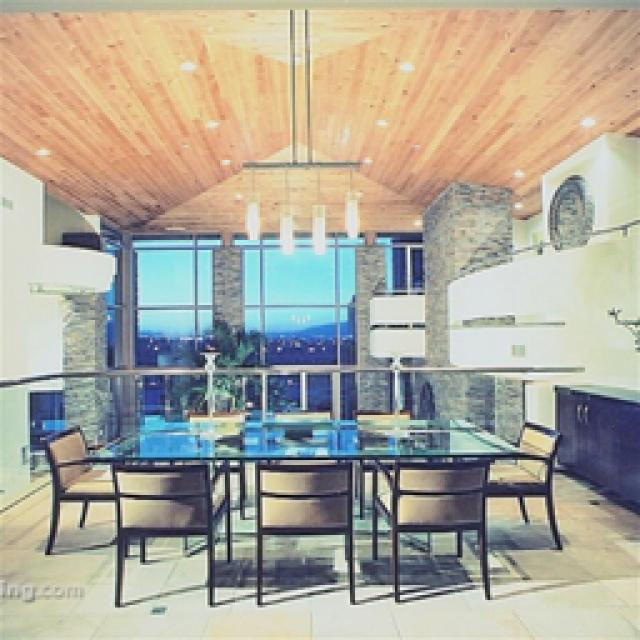2001: (232, 235, 390, 408), (128, 232, 215, 402), (25, 388, 60, 478)
buffet: (550, 382, 635, 510)
ceiling beam: (0, 10, 635, 225)
ceiling lamps: (238, 8, 362, 255), (395, 58, 415, 72), (578, 112, 595, 128), (175, 55, 195, 68), (200, 118, 218, 125), (372, 118, 388, 125)
chair: (352, 402, 408, 420), (272, 405, 328, 420), (190, 405, 245, 418)
chair -occluded-: (368, 455, 492, 598), (112, 460, 230, 600), (252, 460, 352, 600), (488, 418, 565, 545), (35, 422, 110, 552)
hanging plate: (548, 175, 590, 248)
lamp crop: (192, 350, 222, 408)
picture: (130, 230, 355, 418)
plant -x: (178, 308, 282, 405)
statue: (605, 302, 635, 368)
table -X: (82, 415, 522, 455)
